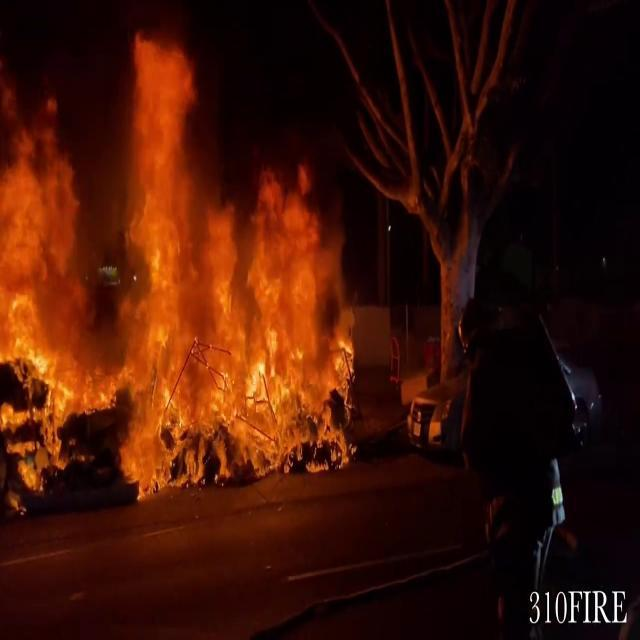Fire: (0, 19, 358, 502)
